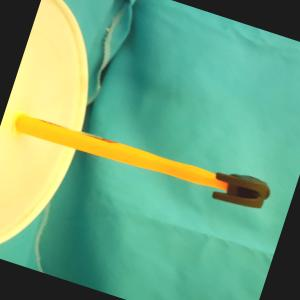martelo: (8, 98, 276, 218)
